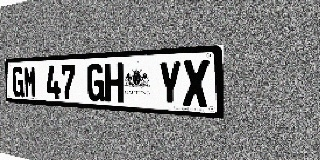4: (46, 65, 60, 99)
7: (60, 64, 76, 100)
G: (87, 63, 104, 102), (12, 66, 24, 97)
H: (104, 63, 124, 103)
M: (24, 66, 36, 98)
X: (183, 59, 209, 107)
Y: (158, 60, 182, 106)
